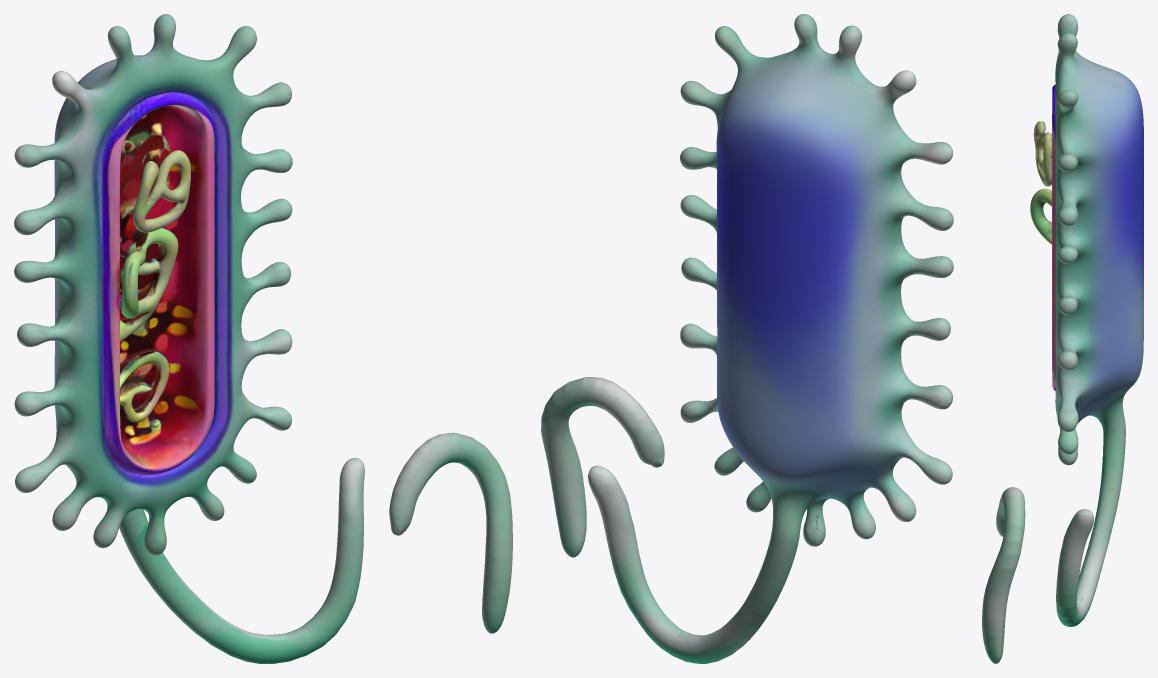
File: Proca.glb
3 views of the same model, side by side, from view 1: azimuth 30°, elevation 25°; view 2: azimuth 150°, elevation 25°; view 3: azimuth 270°, elevation 25° (orthographic). The views are drawn at different scales.
Visible parts, largest first — view 1: model; view 2: model; view 3: model.
Boxes of the visible parts, left/top/right/bottom form: model: left=14, top=14, right=512, bottom=663; model: left=541, top=14, right=953, bottom=663; model: left=982, top=14, right=1143, bottom=663.
Bounding box in the file's own units: 1.33 × 1.9 × 0.5143.
1 material, 1 textured.
